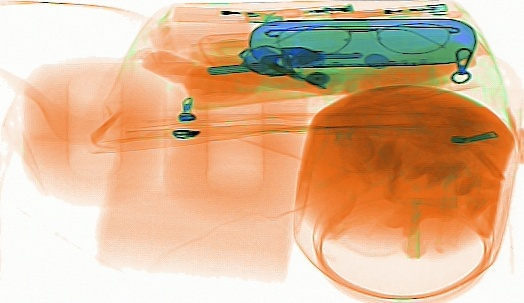lighter: (357, 2, 449, 18)
